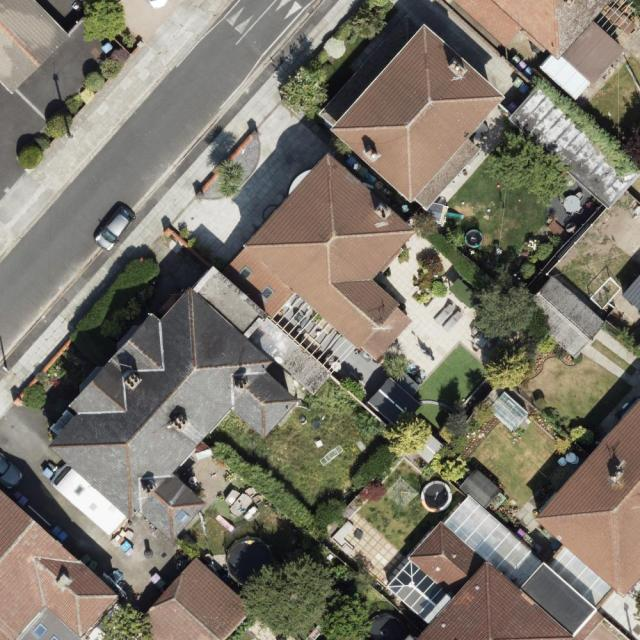roof: (49, 154, 418, 546), (387, 396, 640, 640), (330, 24, 506, 213), (0, 486, 121, 640), (143, 555, 255, 639), (448, 0, 613, 56), (0, 0, 69, 93)
skylight: (30, 621, 48, 640), (236, 265, 253, 282), (259, 284, 275, 301), (174, 511, 189, 524)
